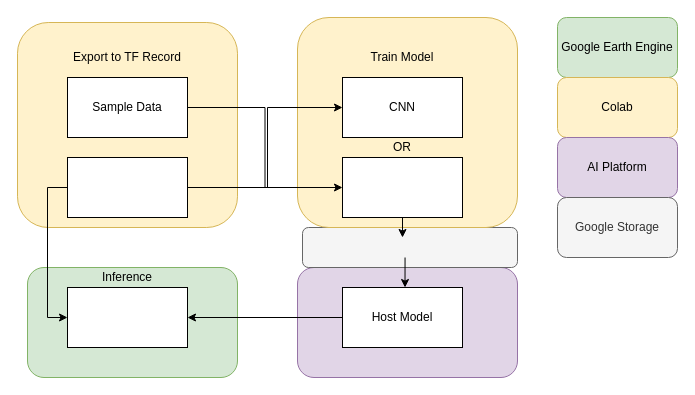
Some shapes in this 695 by 395 pixel diagram are drawn without their labels. The centre of each missing label's shape, as x and y in pixels:
"DNN" belongs at [402,187].
"Input Features" belongs at [127,187].
"Output Image" belongs at [127,317].
"Save Model & EE-ified Model" belongs at [410,247].
